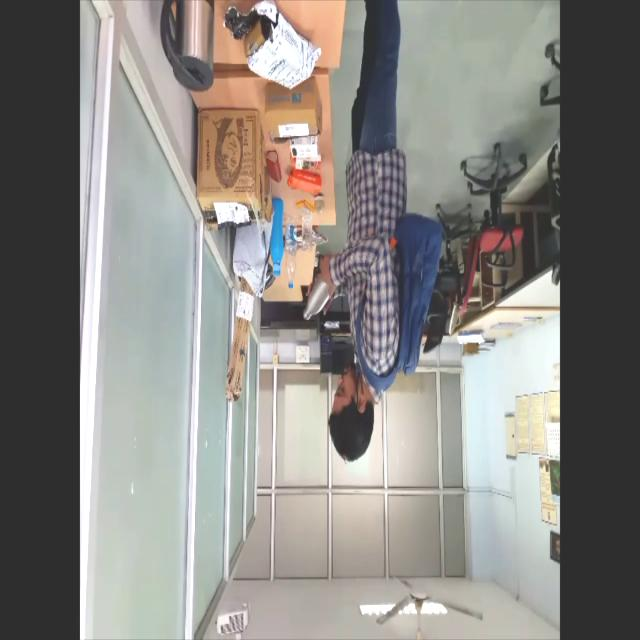normal: (294, 0, 447, 475)
